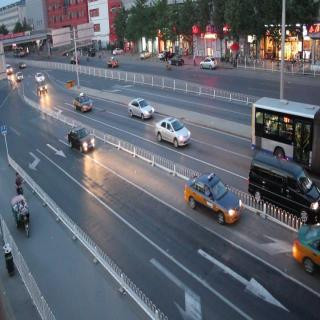BigCar: (244, 91, 320, 167)
Car: (249, 153, 318, 222), (182, 171, 244, 225), (154, 114, 192, 150), (66, 126, 96, 154), (127, 97, 153, 119), (74, 92, 93, 113), (200, 56, 220, 72), (168, 54, 184, 66), (139, 47, 152, 60), (36, 80, 48, 94), (112, 44, 124, 58), (106, 56, 118, 68), (69, 54, 78, 66), (86, 47, 96, 57), (16, 72, 23, 84)
